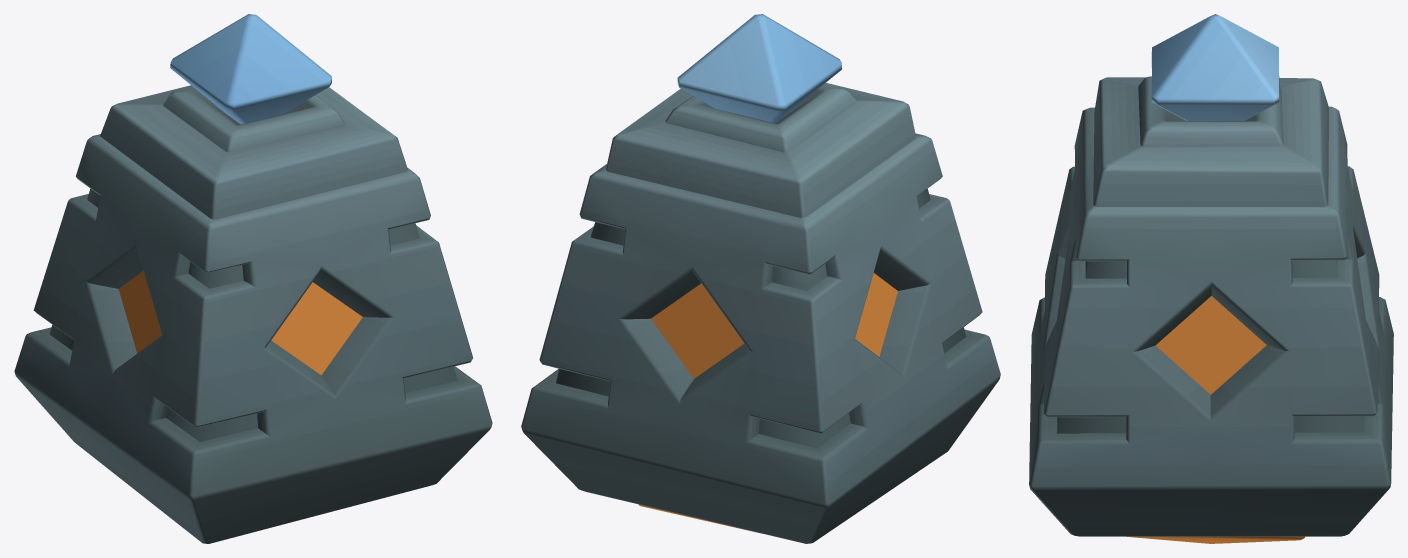
The model's file is CharSkyKid_Prop_AP10Spotlight_01.glb.
3 renders of one model, left to right at view 1: azimuth 30°, elevation 25°; view 2: azimuth 150°, elevation 25°; view 3: azimuth 270°, elevation 25°, orthographic. The views are drawn at different scales.
Visible parts, largest first — view 1: CharSkyKid_Prop_AP10Spotlight_01; view 2: CharSkyKid_Prop_AP10Spotlight_01; view 3: CharSkyKid_Prop_AP10Spotlight_01.
Part boxes in pixels (x1,y1,x2,y2): CharSkyKid_Prop_AP10Spotlight_01: (14,14,492,543); CharSkyKid_Prop_AP10Spotlight_01: (521,14,1000,543); CharSkyKid_Prop_AP10Spotlight_01: (1029,14,1393,543).
Bounding box in the file's own units: 1.84 × 2.93 × 1.84.
Materials: 1 (1 with a texture image).
